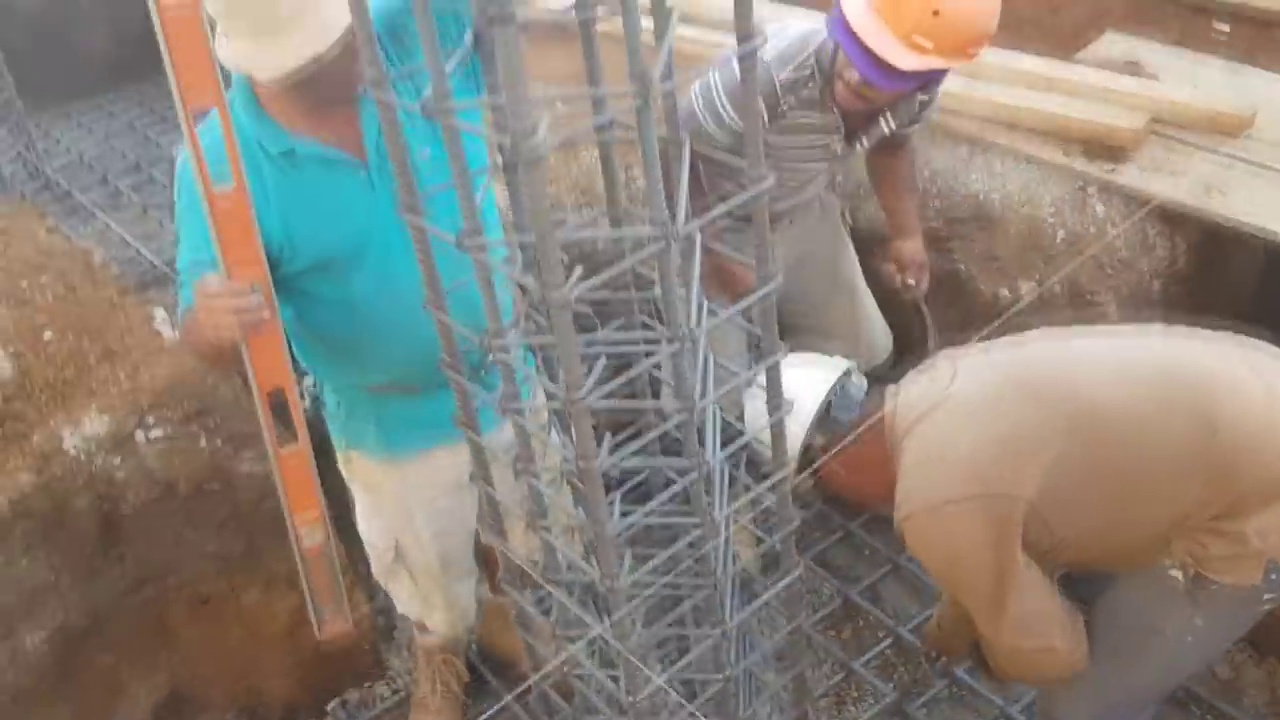helmet: (724, 346, 861, 495), (822, 0, 1003, 74)
helmet-off: (197, 0, 386, 172)
helmet-on: (733, 344, 918, 527), (817, 6, 1015, 118)
person: (135, 0, 562, 720), (722, 303, 1280, 720), (641, 0, 1015, 409)
